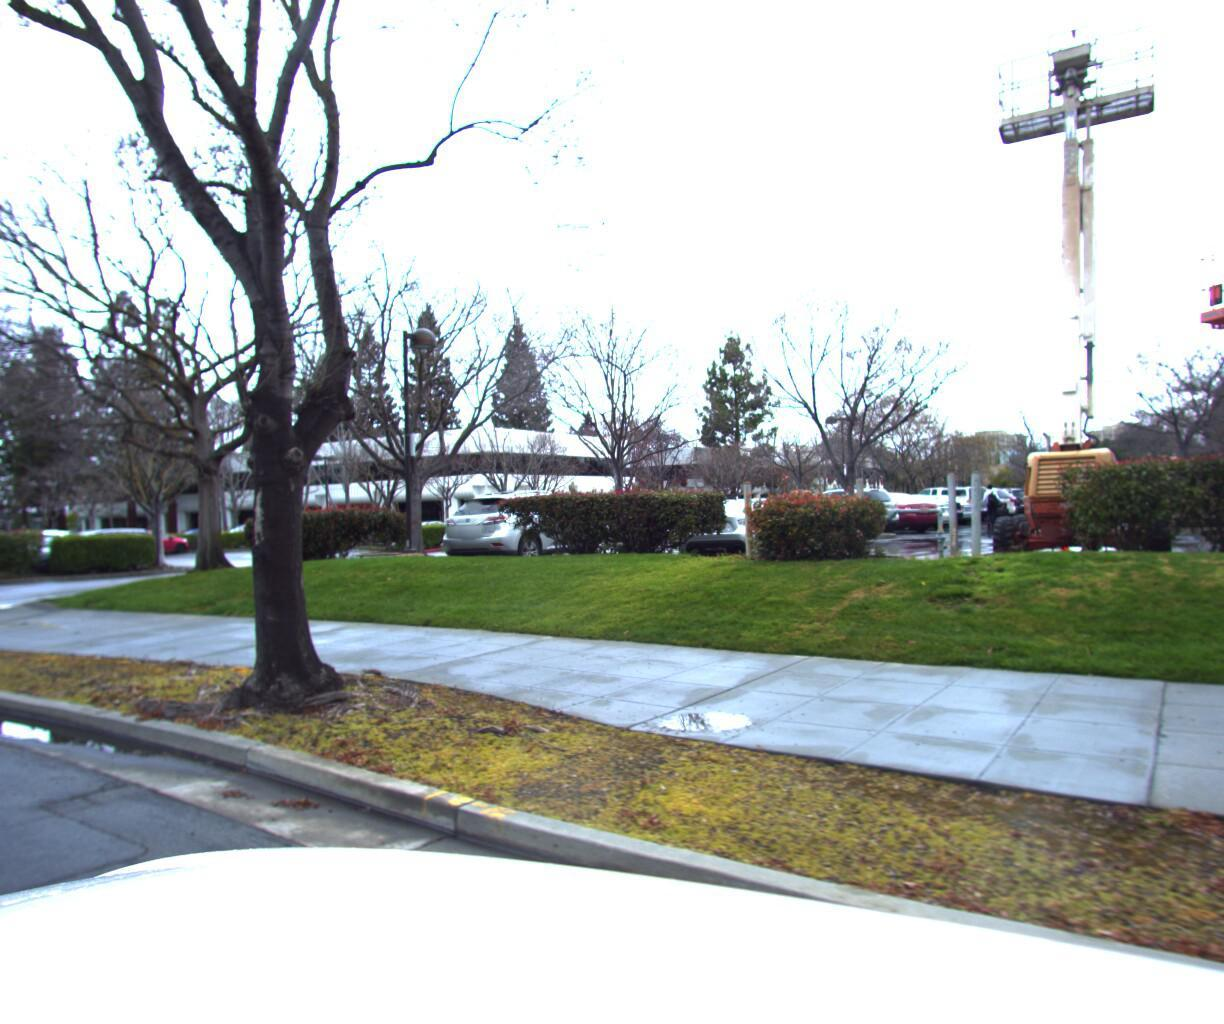car: (433, 487, 618, 576), (780, 483, 909, 534), (824, 488, 950, 536), (850, 489, 968, 532), (875, 491, 978, 532), (906, 484, 1000, 520), (925, 484, 1016, 519), (938, 485, 1024, 517)
